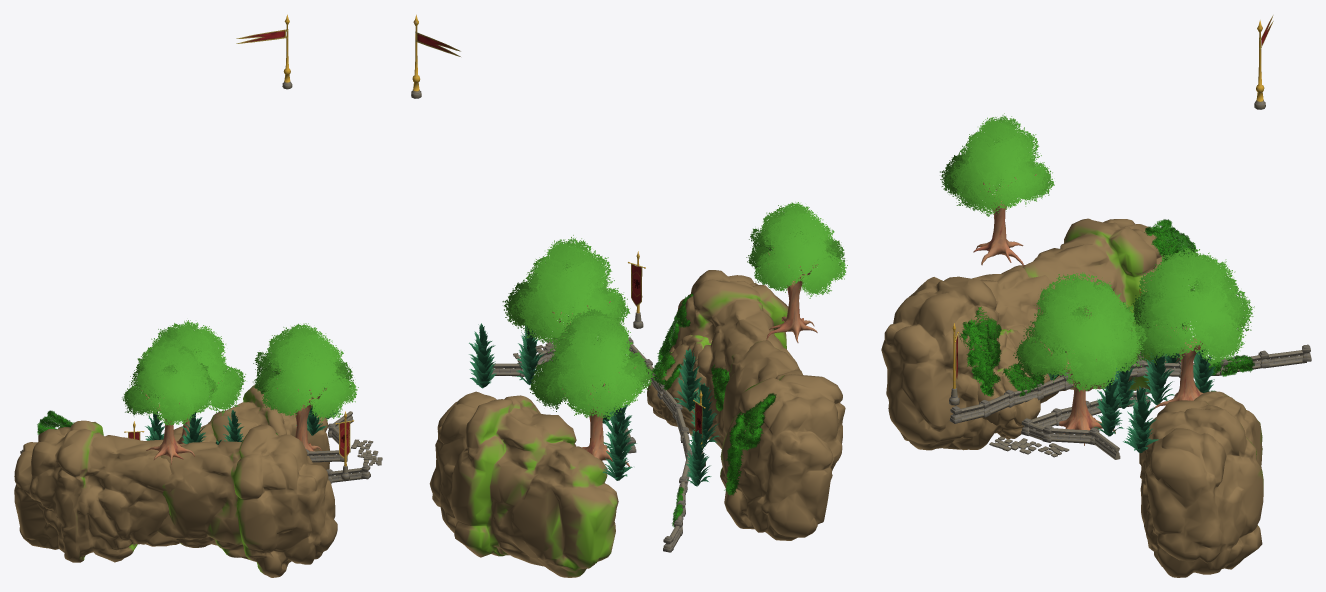
The model's file is cell_x1_z-1_render.gltf.
3 renders of one model, left to right at view 1: azimuth 30°, elevation 25°; view 2: azimuth 150°, elevation 25°; view 3: azimuth 270°, elevation 25°, orthographic. The views are drawn at different scales.
Parts seen in each view (by area): view 1: SM_ENV_cliff_castle_02_LOD0.042, SM_ENV_cliff_castle_02_LOD0.016, SM_ENV_tree_castle_01_LOD0.011, SM_ENV_tree_castle_01_LOD0.012, SM_ENV_tree_castle_01_LOD0.026, SM_ENV_cliff_castle_02_LOD0.028, SM_MOD_tower_roof_deco_flag_castle_LOD0.011, SM_PROP_flag_castle_03_LOD0.003; view 2: SM_ENV_cliff_castle_02_LOD0.028, SM_ENV_cliff_castle_02_LOD0.016, SM_ENV_tree_castle_01_LOD0.026, SM_ENV_cliff_castle_02_LOD0.042, SM_ENV_tree_castle_01_LOD0.011, SM_ENV_tree_castle_01_LOD0.012, SM_ENV_cliff_castle_01_LOD0.045, SM_ENV_tree_castle_02_LOD0.019, SM_ENV_tree_castle_02_LOD0.025, SM_ENV_bush_castle_08_LOD0.059, SM_ENV_tree_castle_02_LOD0.016, SM_ENV_tree_castle_02_LOD0.010 (+5 smaller); view 3: SM_ENV_cliff_castle_02_LOD0.028, SM_ENV_cliff_castle_02_LOD0.042, SM_ENV_tree_castle_01_LOD0.011, SM_ENV_tree_castle_01_LOD0.026, SM_ENV_tree_castle_01_LOD0.012, SM_ENV_cliff_castle_02_LOD0.016, SM_ENV_cliff_castle_01_LOD0.045, SM_ENV_bush_castle_08_LOD0.033, SM_ENV_tree_castle_02_LOD0.019, SM_ENV_tree_castle_02_LOD0.010, SM_ENV_tree_castle_02_LOD0.024, SM_ENV_bush_castle_05_LOD0.001 (+3 smaller).
Boxes of the visible parts, x1,y1,x2,y2 form: SM_ENV_cliff_castle_02_LOD0.042: (157, 424, 337, 577); SM_ENV_cliff_castle_02_LOD0.016: (14, 420, 179, 562); SM_ENV_tree_castle_01_LOD0.011: (252, 323, 358, 455); SM_ENV_tree_castle_01_LOD0.012: (122, 340, 217, 464); SM_ENV_tree_castle_01_LOD0.026: (130, 320, 245, 443); SM_ENV_cliff_castle_02_LOD0.028: (173, 385, 329, 469); SM_MOD_tower_roof_deco_flag_castle_LOD0.011: (236, 14, 292, 89); SM_PROP_flag_castle_03_LOD0.003: (335, 411, 353, 480); SM_ENV_cliff_castle_02_LOD0.028: (429, 391, 618, 577); SM_ENV_cliff_castle_02_LOD0.016: (716, 340, 845, 540); SM_ENV_tree_castle_01_LOD0.026: (529, 306, 654, 466); SM_ENV_cliff_castle_02_LOD0.042: (671, 270, 788, 448); SM_ENV_tree_castle_01_LOD0.011: (502, 235, 630, 345); SM_ENV_tree_castle_01_LOD0.012: (746, 202, 847, 342); SM_ENV_cliff_castle_01_LOD0.045: (647, 335, 712, 426); SM_ENV_tree_castle_02_LOD0.019: (469, 323, 496, 388); SM_ENV_tree_castle_02_LOD0.025: (603, 420, 632, 480); SM_ENV_bush_castle_08_LOD0.059: (724, 412, 747, 495); SM_ENV_tree_castle_02_LOD0.016: (674, 349, 702, 411); SM_ENV_tree_castle_02_LOD0.010: (516, 325, 544, 384); SM_ENV_cliff_castle_02_LOD0.028: (1139, 391, 1263, 577); SM_ENV_cliff_castle_02_LOD0.042: (881, 265, 1060, 450); SM_ENV_tree_castle_01_LOD0.011: (1013, 272, 1147, 445); SM_ENV_tree_castle_01_LOD0.026: (1131, 248, 1254, 409); SM_ENV_tree_castle_01_LOD0.012: (940, 113, 1054, 266); SM_ENV_cliff_castle_02_LOD0.016: (1022, 218, 1189, 393); SM_ENV_cliff_castle_01_LOD0.045: (976, 329, 1050, 439); SM_ENV_bush_castle_08_LOD0.033: (959, 319, 1000, 396); SM_ENV_tree_castle_02_LOD0.019: (1123, 386, 1158, 452); SM_ENV_tree_castle_02_LOD0.010: (1094, 378, 1123, 436); SM_ENV_tree_castle_02_LOD0.024: (1143, 352, 1175, 404); SM_ENV_bush_castle_05_LOD0.001: (1144, 219, 1180, 261).
Bounding box in the file's own units: 39.88 × 56.57 × 37.91.
9 materials, 8 textured.
